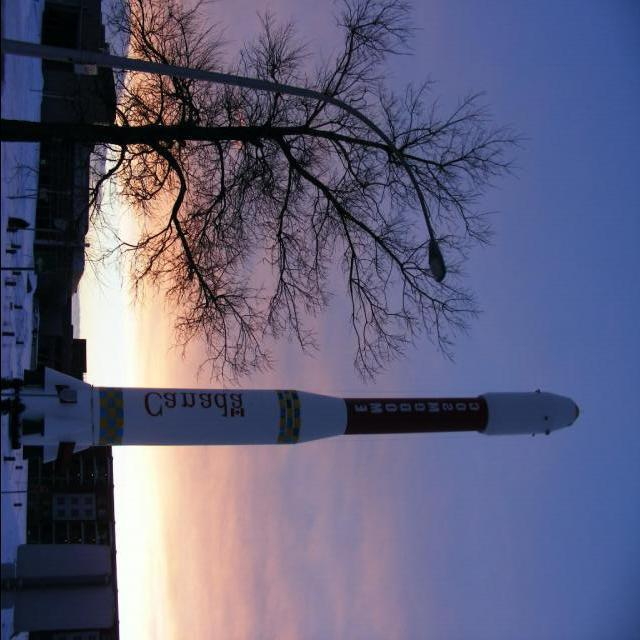missile: (4, 356, 582, 483)
